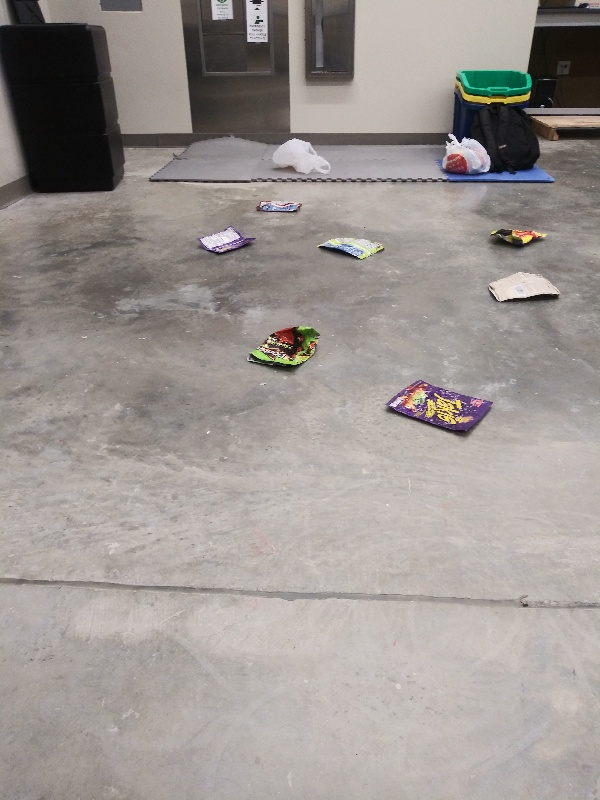bag: (384, 376, 495, 442), (240, 323, 323, 370), (484, 269, 564, 304), (190, 221, 263, 259), (315, 233, 386, 261), (485, 221, 553, 250), (253, 196, 306, 214)
